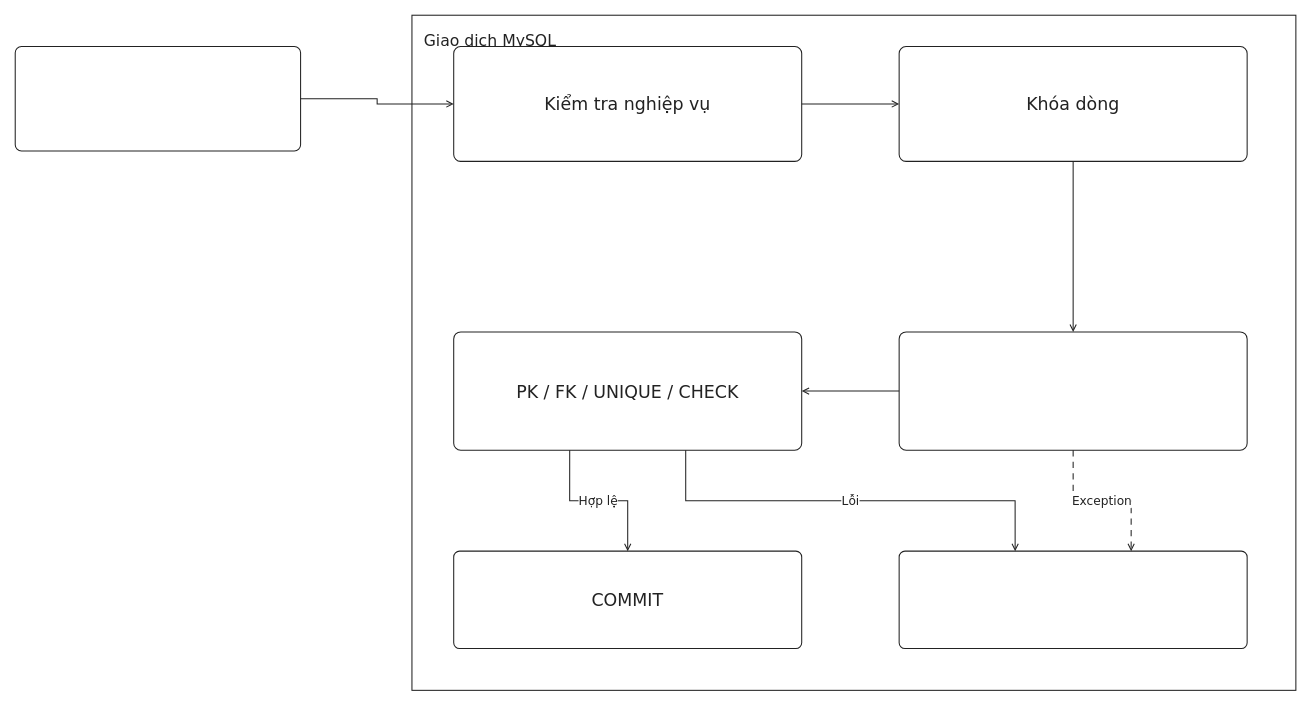
Some shapes in this 1312 by 706 pixel diagram are drawn without their labels. The centre of each missing label's shape, as x and y in pixels:
Ghi giao dịch: (x=1072, y=390)
ROLLBACK: (x=1072, y=599)
Yêu cầu ghi: (x=157, y=98)
